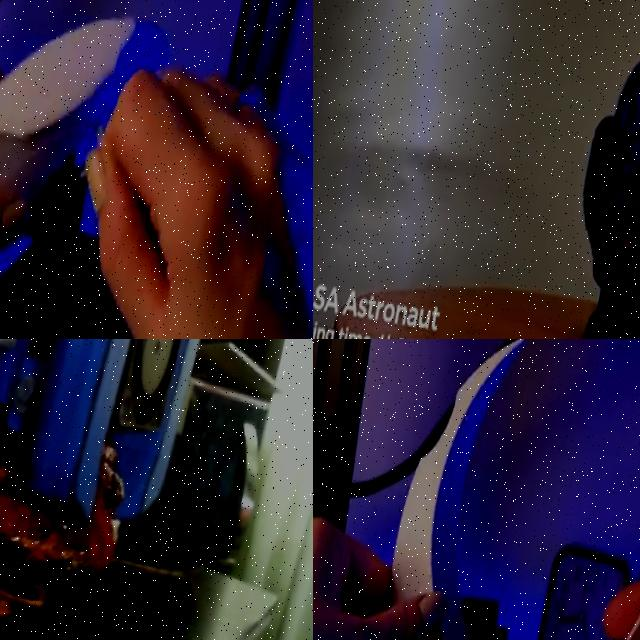spaghetti: (0, 442, 124, 640)
